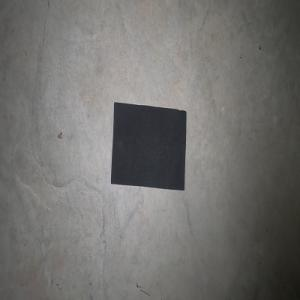PaintChip: (110, 102, 186, 190)
